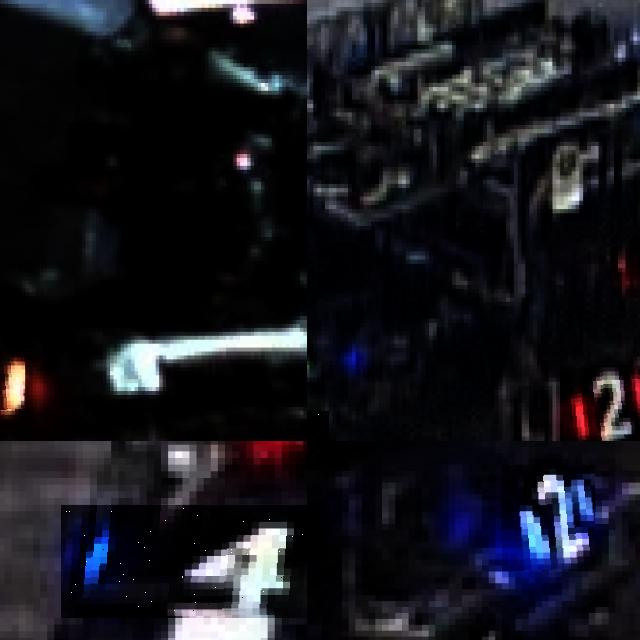B2: (502, 465, 595, 571)
B4: (61, 504, 307, 618)
R2: (560, 365, 640, 441)
Rs: (0, 336, 25, 411)
